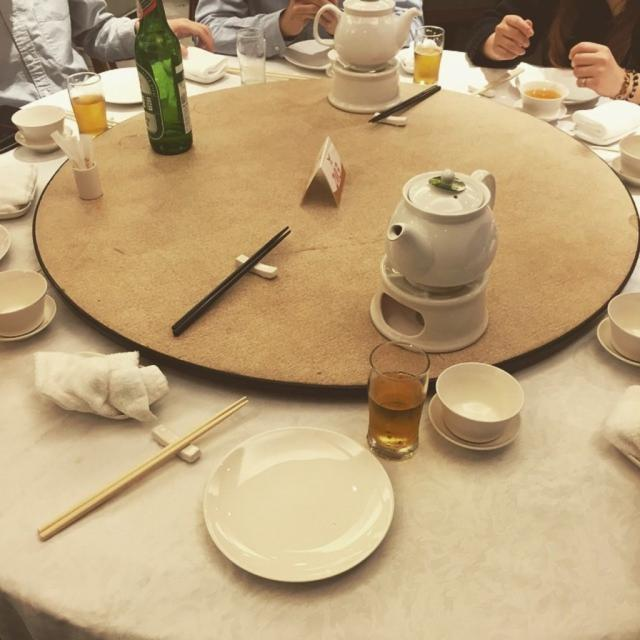Tea: (522, 88, 561, 102)
